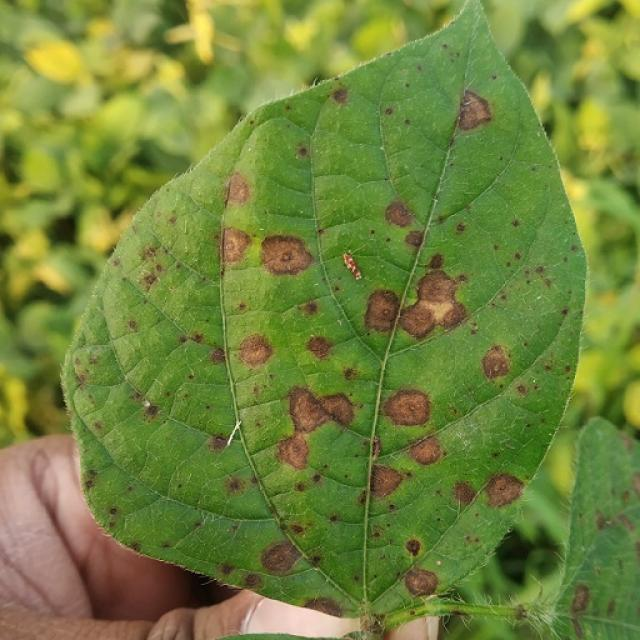Anthracnose: (287, 386, 356, 434), (450, 86, 500, 138), (259, 233, 315, 276), (381, 388, 433, 429), (363, 289, 401, 334), (482, 472, 526, 509), (415, 296, 459, 330), (260, 540, 301, 575), (369, 463, 406, 500), (275, 433, 311, 471), (415, 270, 459, 301), (237, 334, 274, 368), (598, 505, 638, 536), (402, 566, 440, 598), (408, 435, 445, 467), (480, 344, 512, 380), (222, 227, 252, 265), (384, 199, 415, 228), (225, 172, 251, 206), (303, 597, 342, 617), (305, 335, 335, 360), (570, 584, 591, 614), (452, 481, 477, 506), (224, 475, 247, 496), (141, 401, 162, 421), (404, 230, 424, 249), (620, 431, 635, 453), (404, 538, 422, 556), (242, 573, 262, 589), (426, 252, 444, 269), (209, 435, 228, 451), (301, 300, 320, 316), (570, 618, 584, 639), (210, 347, 227, 364), (141, 272, 158, 289), (331, 87, 349, 103), (595, 512, 610, 531), (513, 604, 529, 621), (343, 366, 361, 381), (295, 143, 309, 158), (606, 599, 616, 617), (290, 523, 305, 535), (622, 489, 633, 505), (634, 472, 640, 501), (129, 541, 141, 553), (127, 319, 138, 332), (84, 477, 95, 490), (455, 222, 466, 233), (236, 302, 247, 312), (384, 107, 394, 116), (108, 507, 118, 516), (329, 514, 339, 523), (511, 219, 520, 228), (409, 610, 416, 616), (491, 75, 497, 80)
Blackgram: (62, 0, 586, 628)
